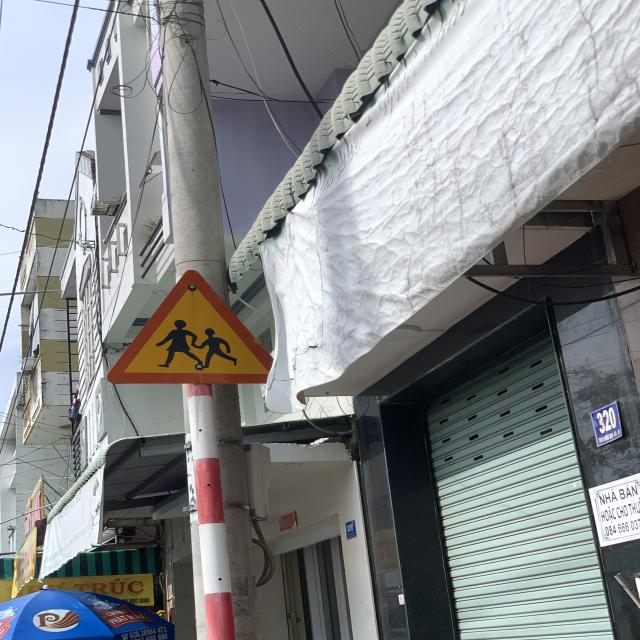Vong_Xuyen: (104, 268, 266, 384)
